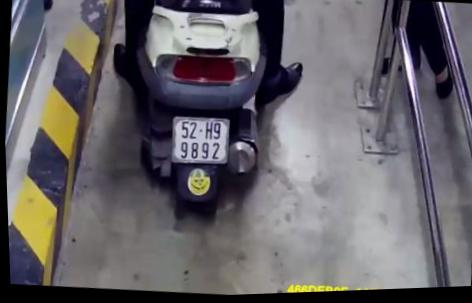LP: (168, 113, 232, 169)
